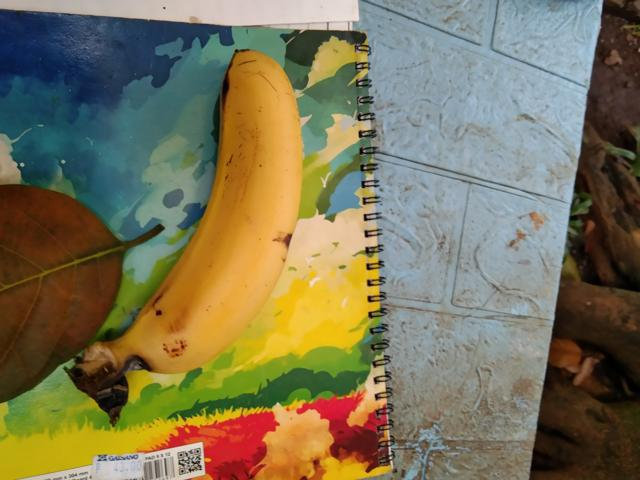freshripe: (122, 35, 305, 388)
